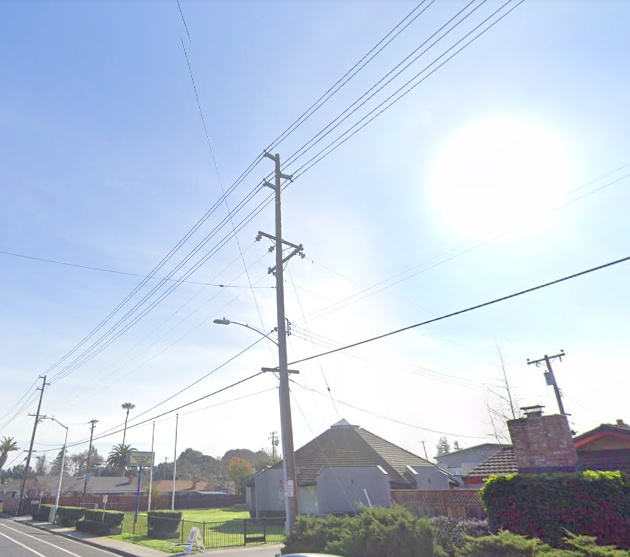utility_pole: (257, 142, 296, 198)
